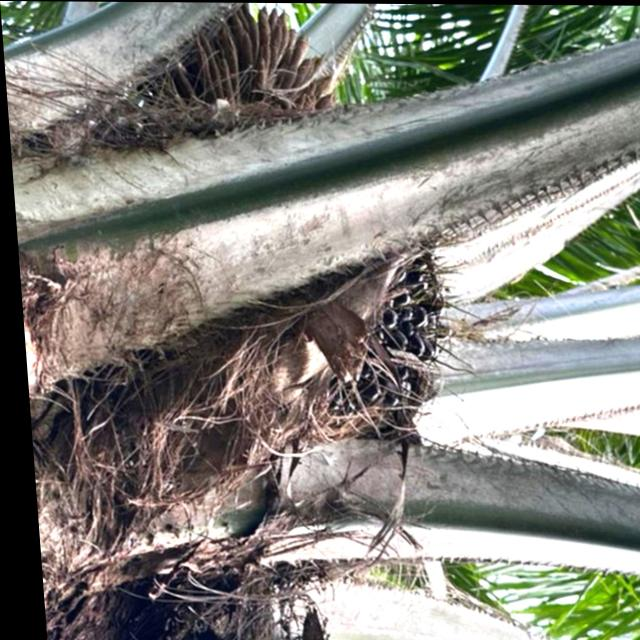almost: (267, 237, 492, 448)
